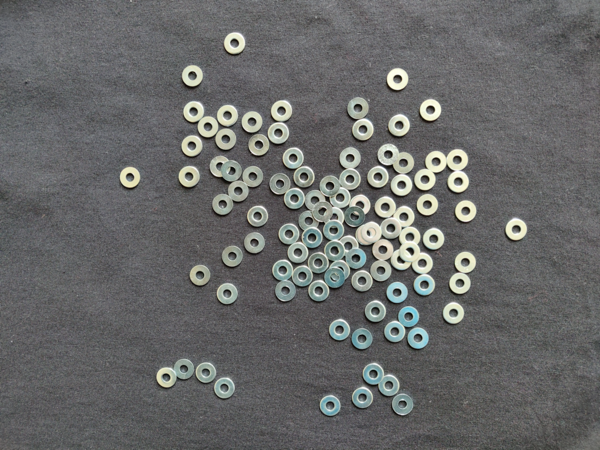circle: (441, 300, 469, 329), (223, 30, 249, 57), (345, 96, 372, 122), (328, 317, 353, 344), (454, 250, 481, 275), (181, 99, 207, 124), (390, 393, 416, 418), (367, 165, 392, 191), (387, 66, 411, 93), (392, 151, 417, 176), (362, 362, 388, 386), (350, 328, 376, 352), (446, 146, 469, 173), (153, 367, 178, 391), (270, 100, 295, 124), (387, 114, 412, 138), (423, 228, 447, 253), (175, 165, 201, 188), (282, 145, 305, 171), (338, 147, 364, 170), (306, 279, 329, 305), (118, 166, 142, 190), (350, 387, 374, 411), (216, 283, 239, 308), (221, 244, 244, 269), (447, 171, 470, 196), (414, 273, 437, 298), (449, 273, 474, 296), (213, 379, 237, 402), (180, 135, 204, 158), (243, 232, 267, 255), (211, 193, 234, 217), (216, 105, 240, 128), (267, 122, 291, 145), (455, 200, 478, 224), (416, 194, 440, 217), (419, 100, 442, 124), (352, 119, 375, 143), (390, 174, 414, 197), (190, 264, 212, 289), (248, 134, 270, 159), (221, 159, 244, 182), (320, 396, 343, 419), (377, 144, 400, 167), (245, 206, 269, 228), (243, 165, 265, 189), (505, 218, 527, 242), (292, 265, 314, 289), (324, 268, 348, 290), (384, 320, 406, 344), (387, 282, 409, 306), (372, 237, 394, 261), (196, 361, 217, 386), (180, 65, 203, 87), (209, 156, 231, 179), (269, 173, 291, 196), (283, 188, 305, 211), (278, 223, 301, 245), (287, 242, 310, 264), (408, 328, 431, 350), (380, 218, 402, 241), (294, 165, 315, 189), (339, 169, 363, 190), (173, 359, 195, 381), (379, 376, 401, 398), (415, 169, 437, 191), (344, 205, 366, 227), (307, 252, 329, 274), (330, 260, 352, 282), (365, 301, 387, 323), (375, 197, 397, 219), (228, 181, 251, 202), (425, 150, 446, 173), (274, 280, 297, 301), (346, 248, 367, 271), (338, 236, 359, 259), (393, 207, 416, 228), (216, 128, 237, 150), (242, 111, 263, 133), (329, 186, 351, 207), (323, 220, 345, 241), (302, 227, 323, 249), (352, 271, 373, 293), (370, 261, 392, 282), (362, 222, 383, 244), (391, 250, 413, 271), (400, 241, 421, 263), (412, 253, 434, 274), (349, 195, 372, 215), (397, 307, 421, 326), (198, 117, 219, 138), (320, 176, 340, 198), (299, 211, 321, 231), (325, 241, 345, 263), (399, 227, 421, 247), (323, 206, 344, 226), (356, 225, 376, 246), (272, 262, 294, 281), (306, 191, 326, 211), (312, 203, 333, 222)
